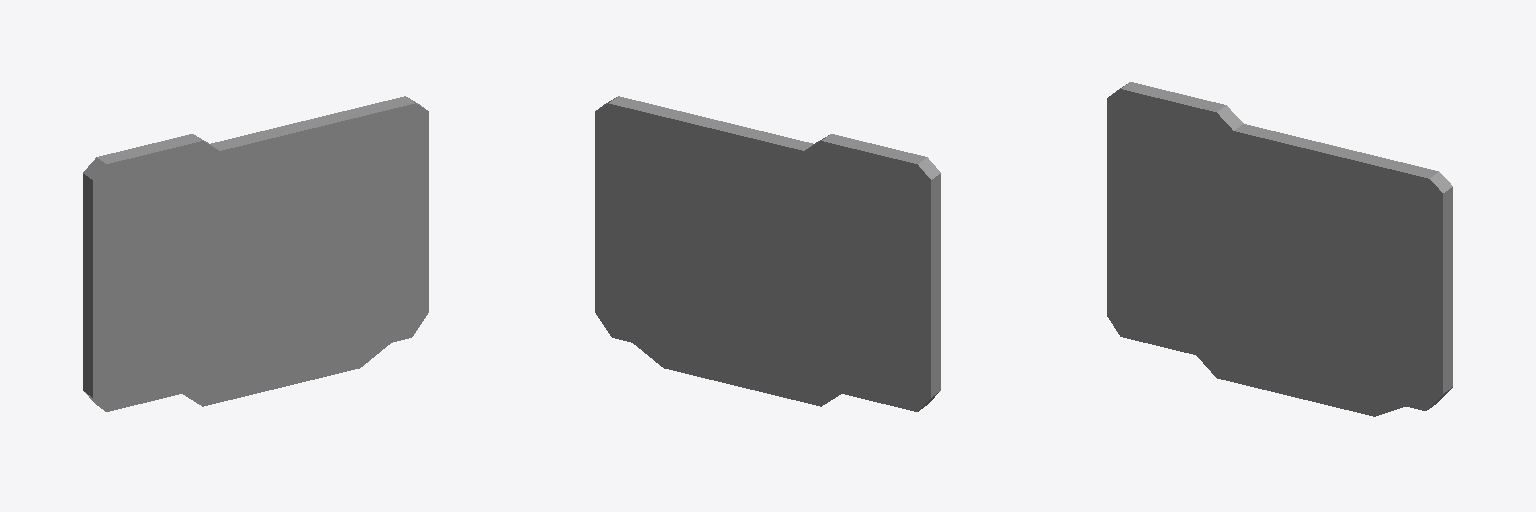
Rendered from collectable_scheme.obj.
The picture shows the model from 3 angles: view 1: azimuth 30°, elevation 25°; view 2: azimuth 150°, elevation 25°; view 3: azimuth 330°, elevation 25°; orthographic projection.
Visible parts, largest first — view 1: MeshBody1; view 2: MeshBody1; view 3: MeshBody1.
Part boxes in pixels (left/top/right/bottom): MeshBody1: left=83, top=96, right=428, bottom=411; MeshBody1: left=595, top=96, right=940, bottom=411; MeshBody1: left=1107, top=82, right=1452, bottom=416.
Size of the model in its own units: 0.98 by 0.74 by 0.05.